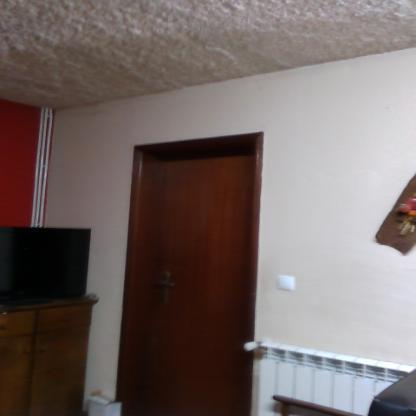door: (130, 154, 254, 415)
lever: (153, 280, 177, 290)
